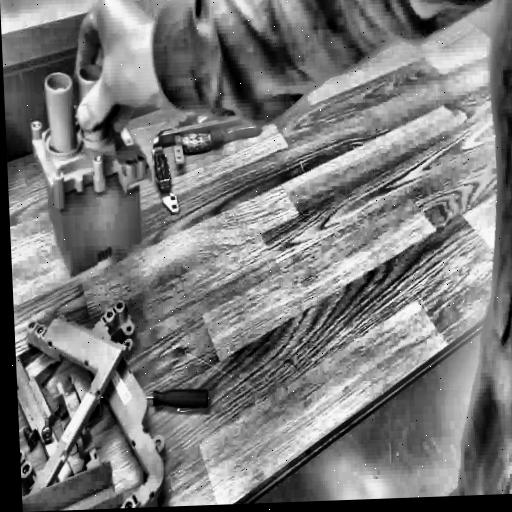busbar: (150, 89, 266, 220)
connector: (24, 49, 161, 288)
